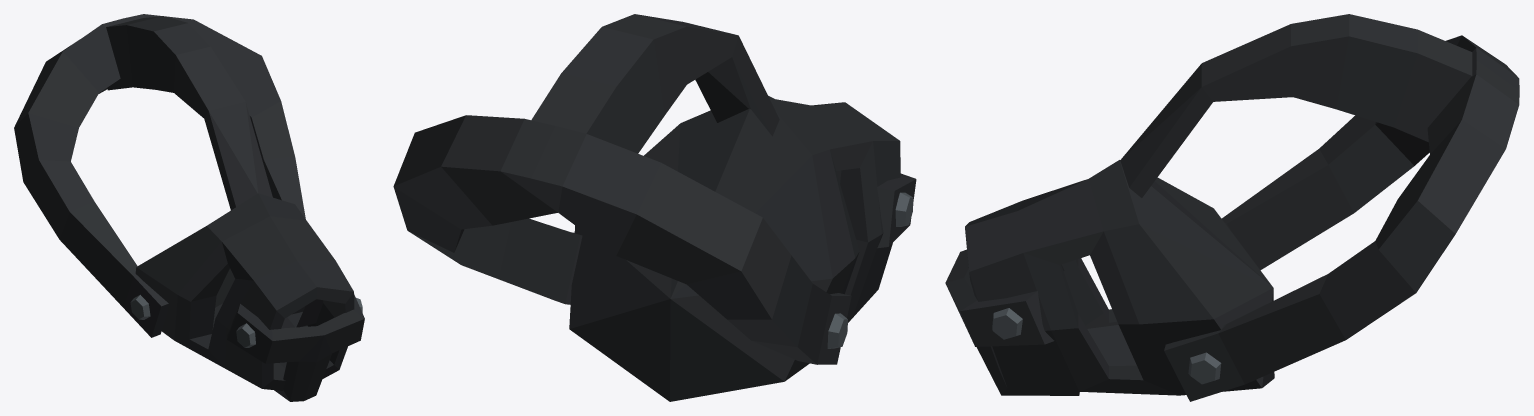
The model's file is SM_Chr_Attach_Head_Muzzle_Medium_01.fbx.
The picture shows the model from 3 angles, left to right: view 1: azimuth 30°, elevation 25°; view 2: azimuth 150°, elevation 25°; view 3: azimuth 270°, elevation 25°; orthographic projection. The views are drawn at different scales.
Parts seen in each view (by area): view 1: SM_Chr_Attach_Head_Muzzle_Medium_01; view 2: SM_Chr_Attach_Head_Muzzle_Medium_01; view 3: SM_Chr_Attach_Head_Muzzle_Medium_01.
Boxes of the visible parts, x1=… form: SM_Chr_Attach_Head_Muzzle_Medium_01: x1=14, y1=14, x2=364, y2=401; SM_Chr_Attach_Head_Muzzle_Medium_01: x1=393, y1=14, x2=916, y2=401; SM_Chr_Attach_Head_Muzzle_Medium_01: x1=945, y1=14, x2=1519, y2=401.
Size of the model in its own units: 22.53 by 24.4 by 34.77.
